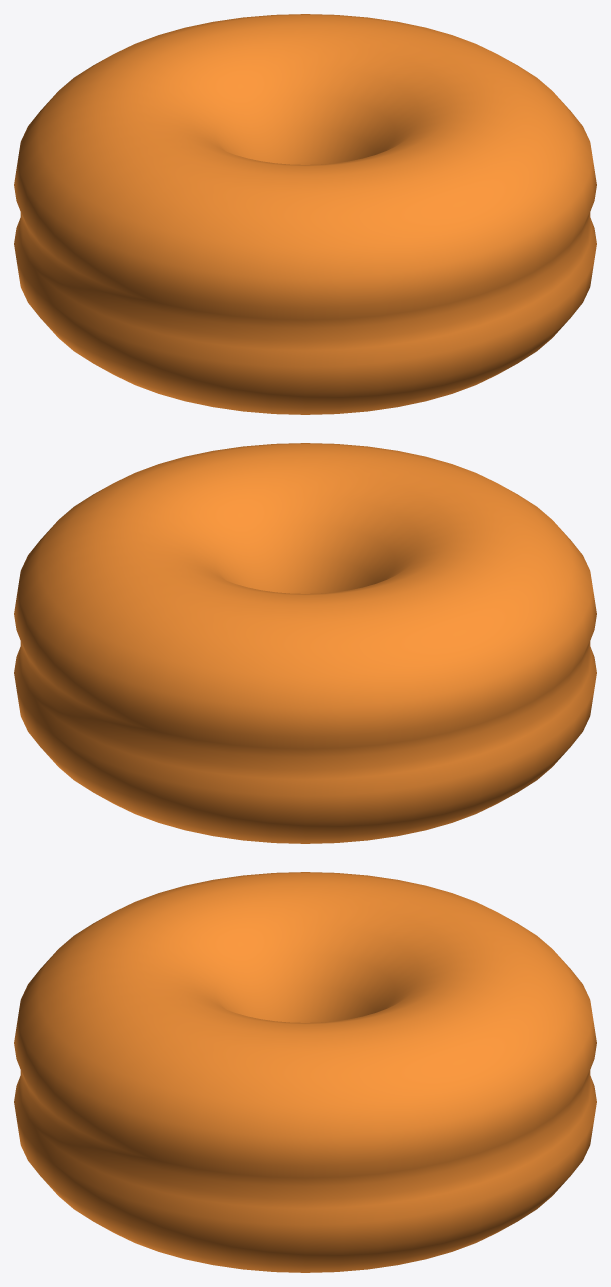
Rendered from glazed.fbx.
The picture shows the model from 3 angles, top to bottom: view 1: azimuth 30°, elevation 25°; view 2: azimuth 150°, elevation 25°; view 3: azimuth 270°, elevation 25°; orthographic projection.
Parts seen in each view (by area): view 1: glazed.002; view 2: glazed.002; view 3: glazed.002.
Part boxes in pixels (x1,y1,x2,y2): glazed.002: (14,14,596,414); glazed.002: (14,443,596,843); glazed.002: (14,872,596,1272).
Size of the model in its own units: 242 by 104 by 242.
